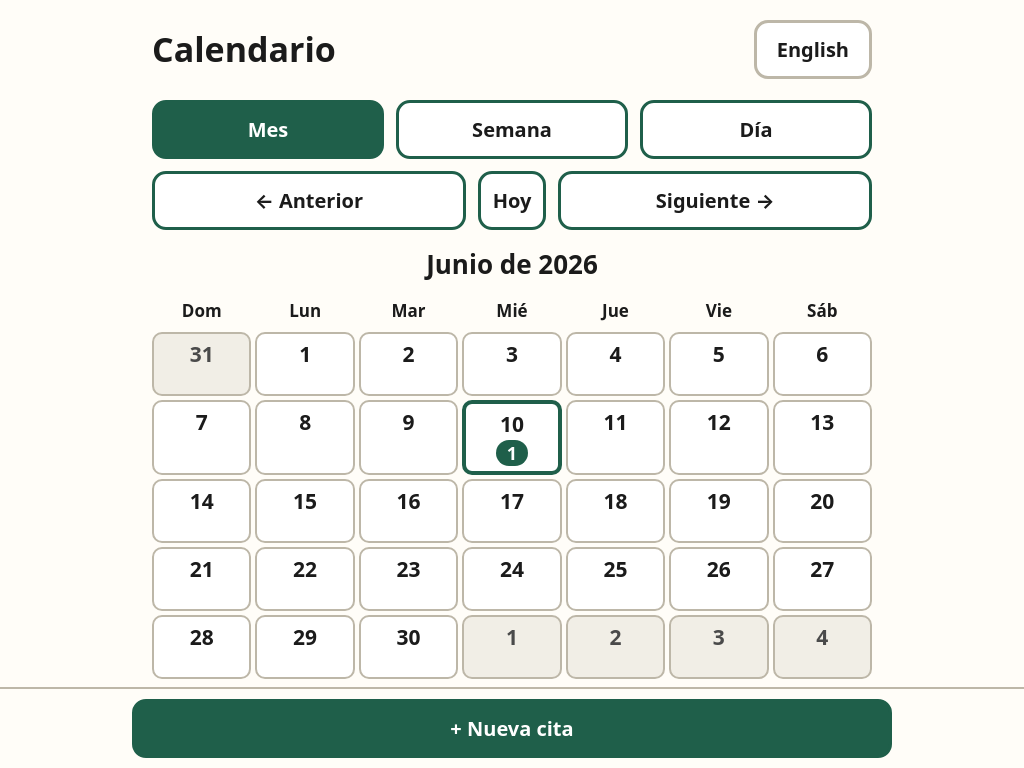
Test: calendar home screen › tapping a day opens that exact day with its clients, not the whole week
Click the button named "10 de junio". click: (512, 438)
box: [462,400,562,475]
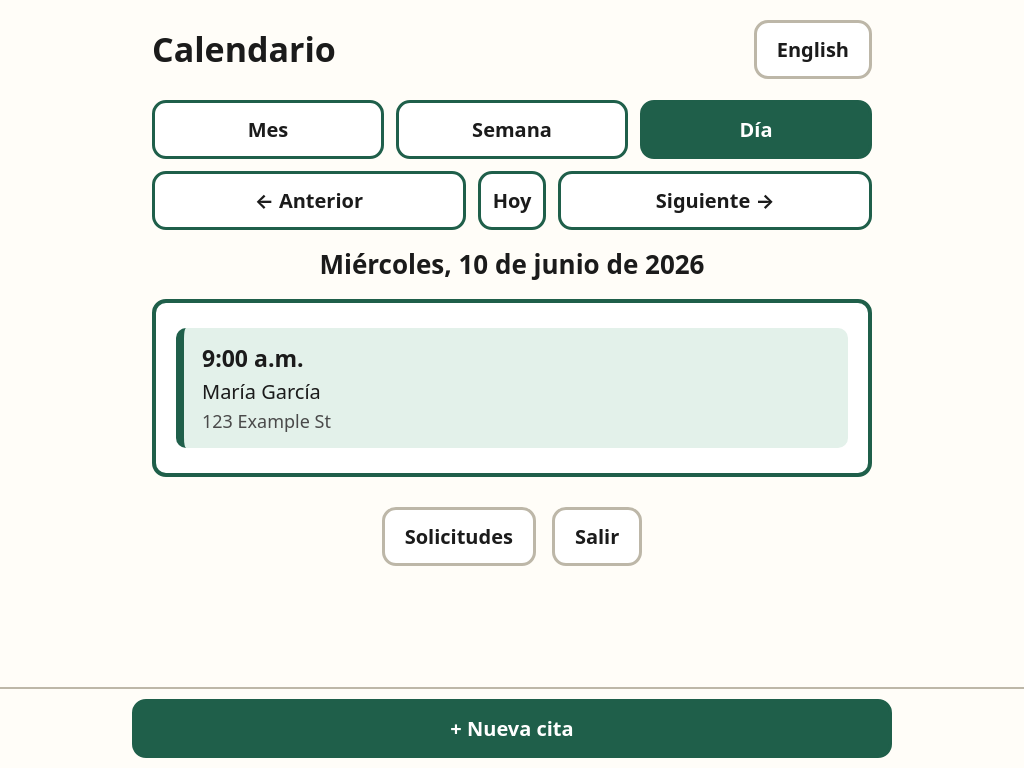
Expected: the heading "miércoles, 10 de junio de 2026" is shown, [320,246,704,282]
Expected: the link "9:00 a.m. María García 123 Example St" is shown, [176,328,848,448]
